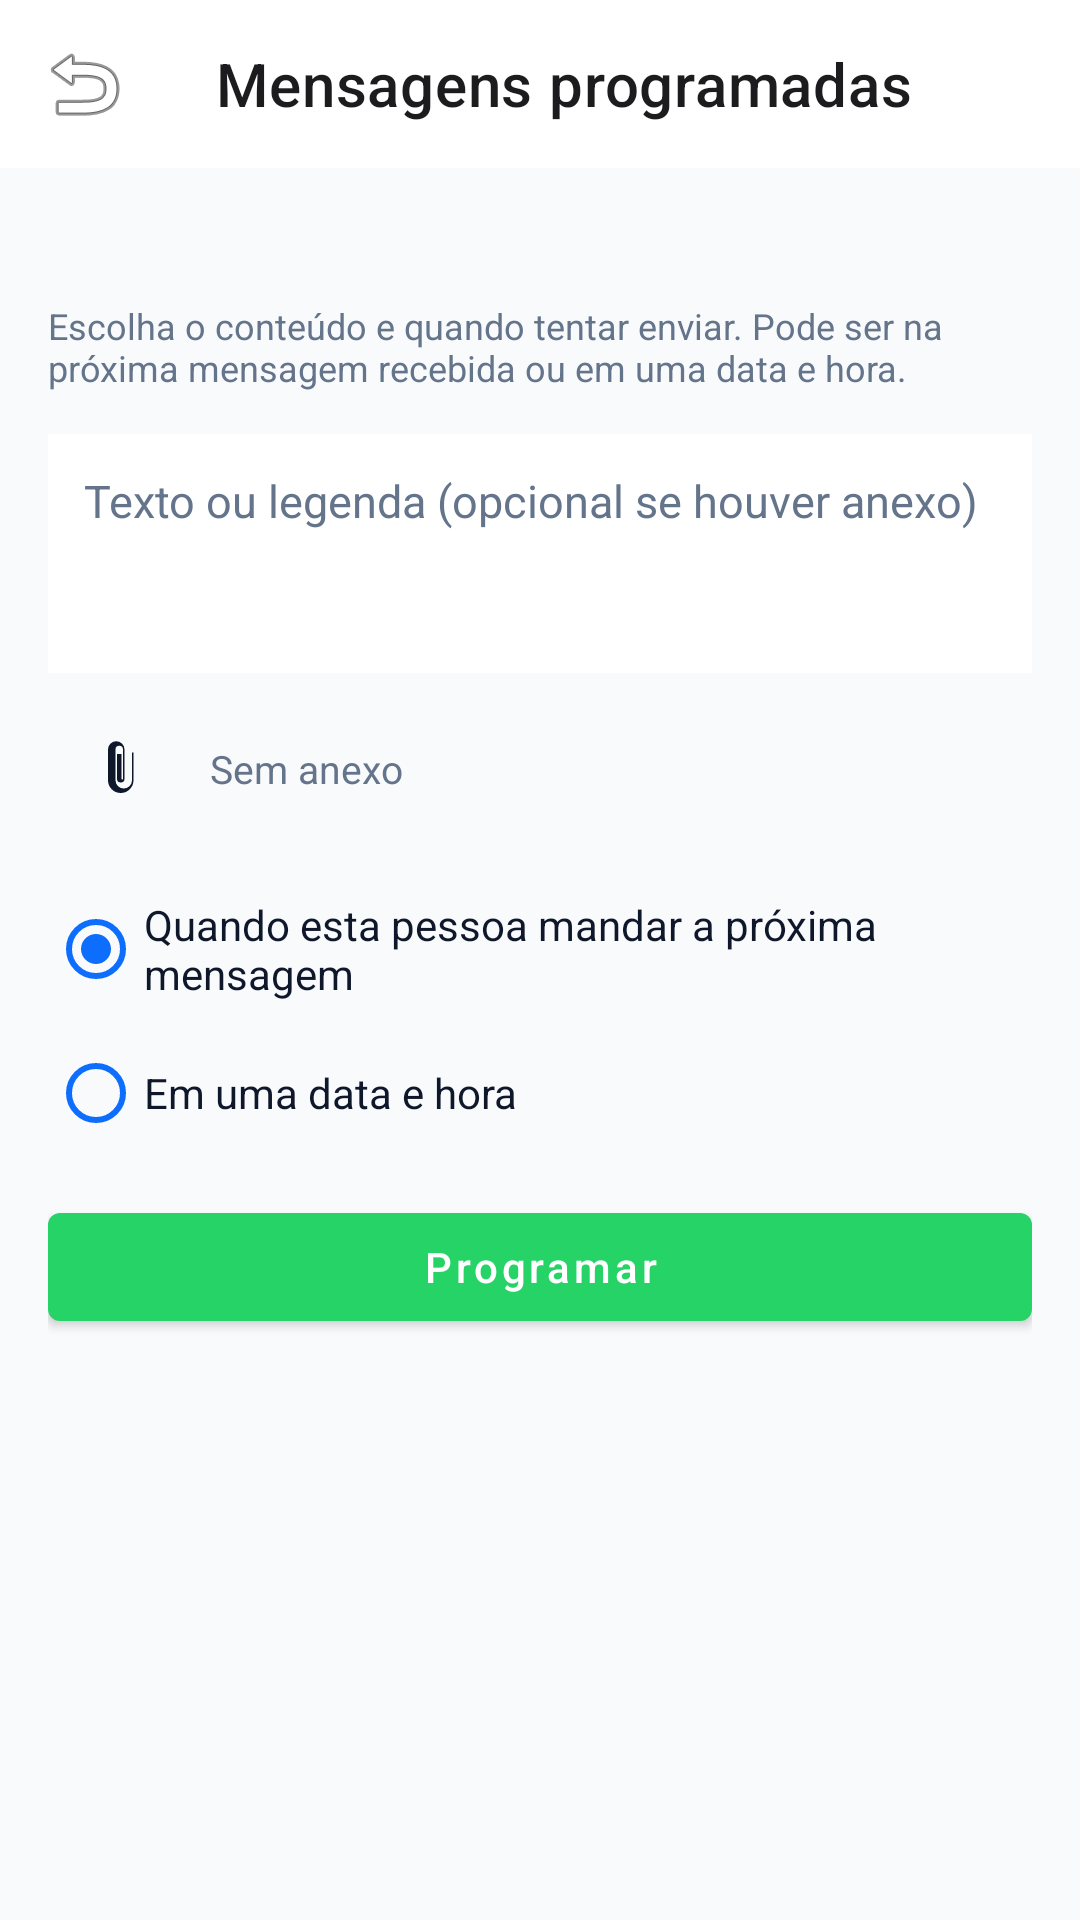

Locate icon controls on the screen. Image size 1080×1920, boxes as (x1, y1, x2, y2).
Anexar arquivo: (108, 741, 134, 793)
